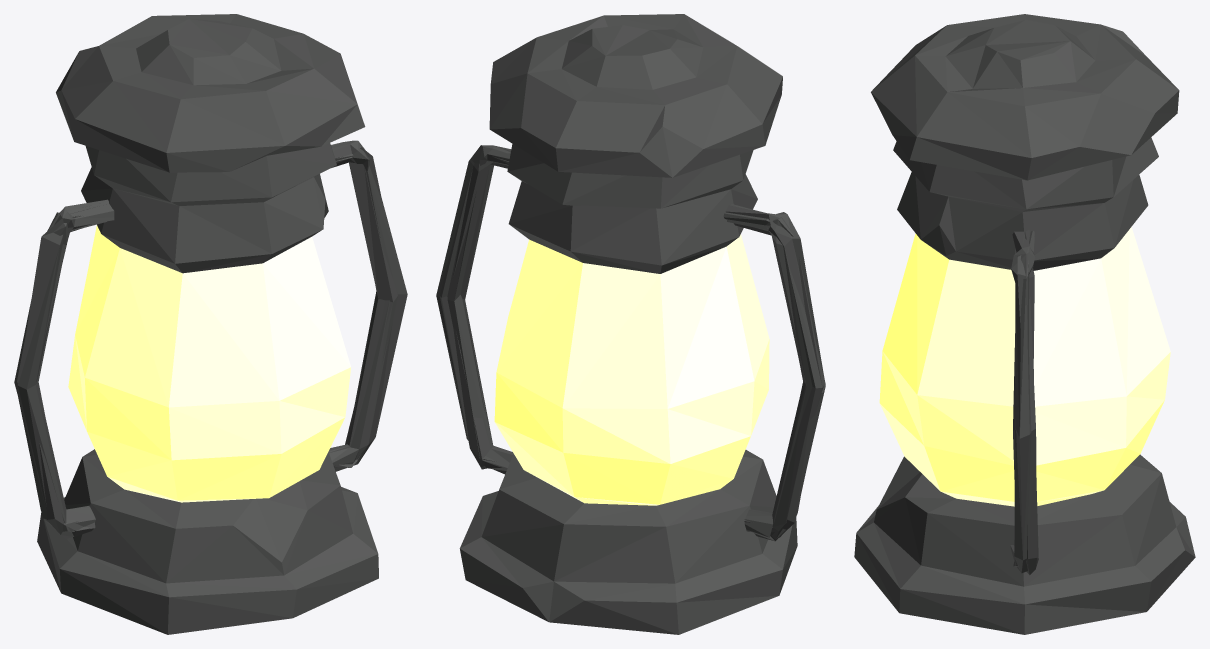
Rendered from SFM_FVC_Lamp.fbx.
The picture shows the model from 3 angles, left to right: view 1: azimuth 30°, elevation 25°; view 2: azimuth 150°, elevation 25°; view 3: azimuth 270°, elevation 25°; orthographic projection.
Parts seen in each view (by area): view 1: SFM_FVC_Lamp; view 2: SFM_FVC_Lamp; view 3: SFM_FVC_Lamp.
Boxes of the visible parts, <box> form: SFM_FVC_Lamp: <box>14,14,407,634</box>; SFM_FVC_Lamp: <box>436,14,825,634</box>; SFM_FVC_Lamp: <box>854,14,1195,634</box>.
Size of the model in its own units: 26.5 by 34.43 by 20.16.
